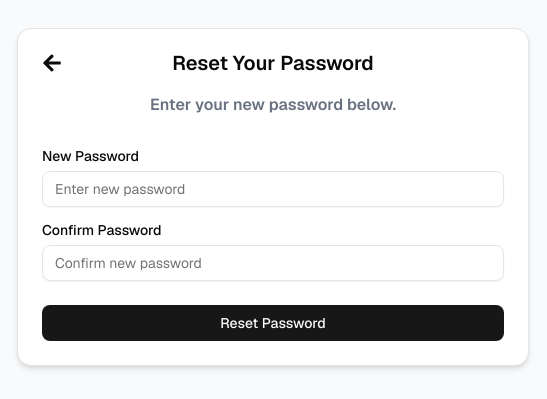
Test case: ResetPasswordForm › should show error message when resetPassword returns error
The image size is (547, 399).
Type "abc123" into the password field with placeholder "Enter new password" at (273, 189), box [42, 171, 504, 207]
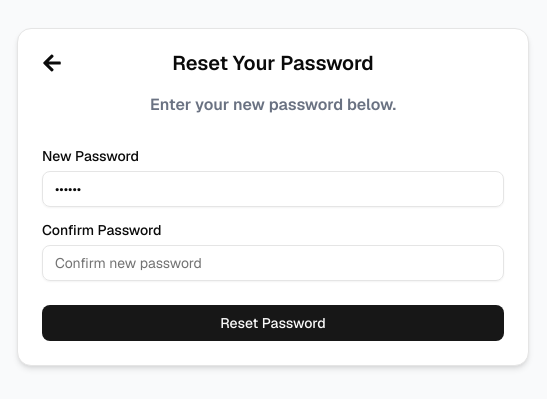
Type "abc123" into the password field with placeholder "Confirm new password" at (273, 263), box [42, 245, 504, 281]
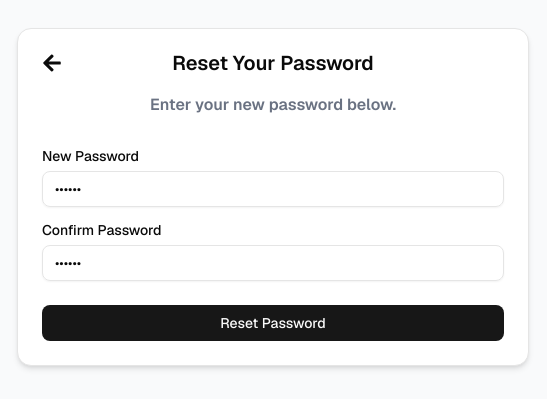
Click the button "Reset Password" at (273, 323), box [42, 305, 504, 341]
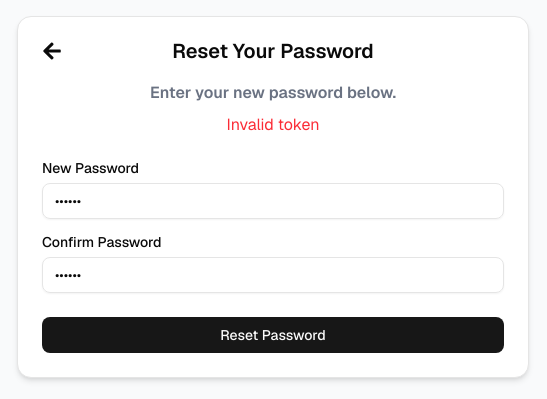
Now the heading "Invalid token" is shown, box [226, 113, 320, 137]
